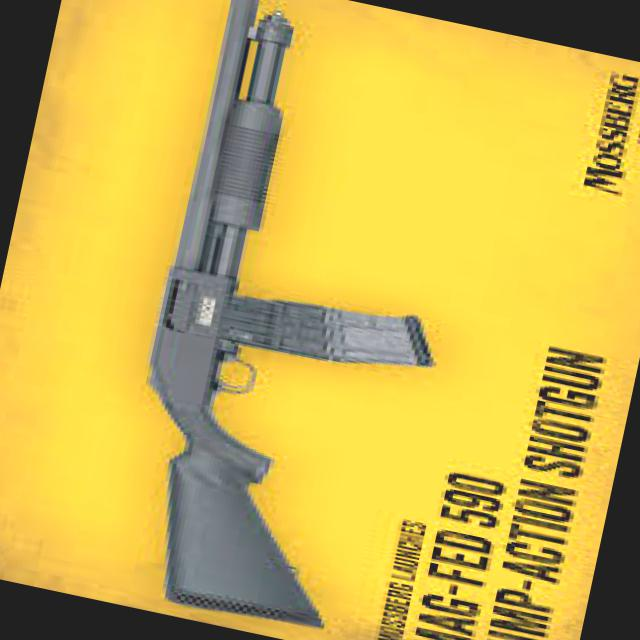long weapon: (81, 0, 443, 640)
